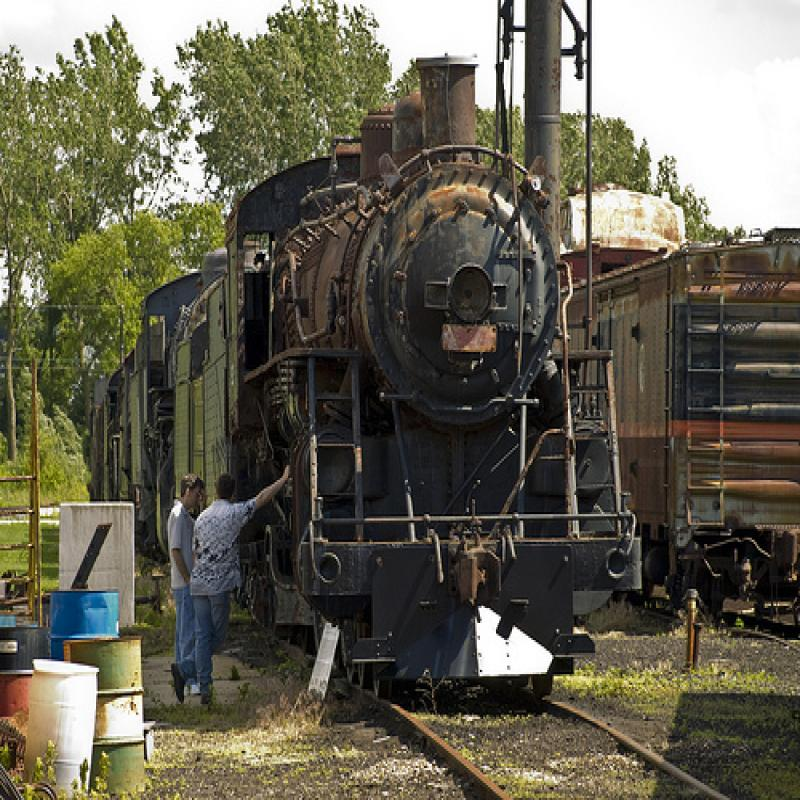train: (95, 52, 641, 699)
